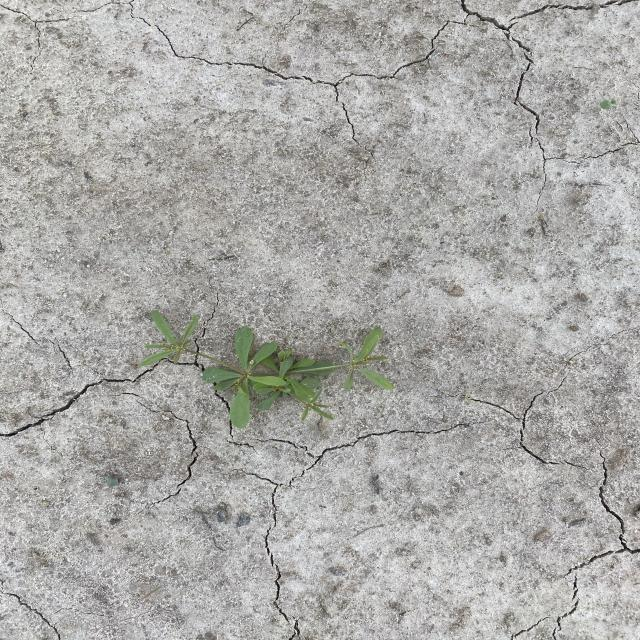Carpetweed: (134, 307, 396, 431)
